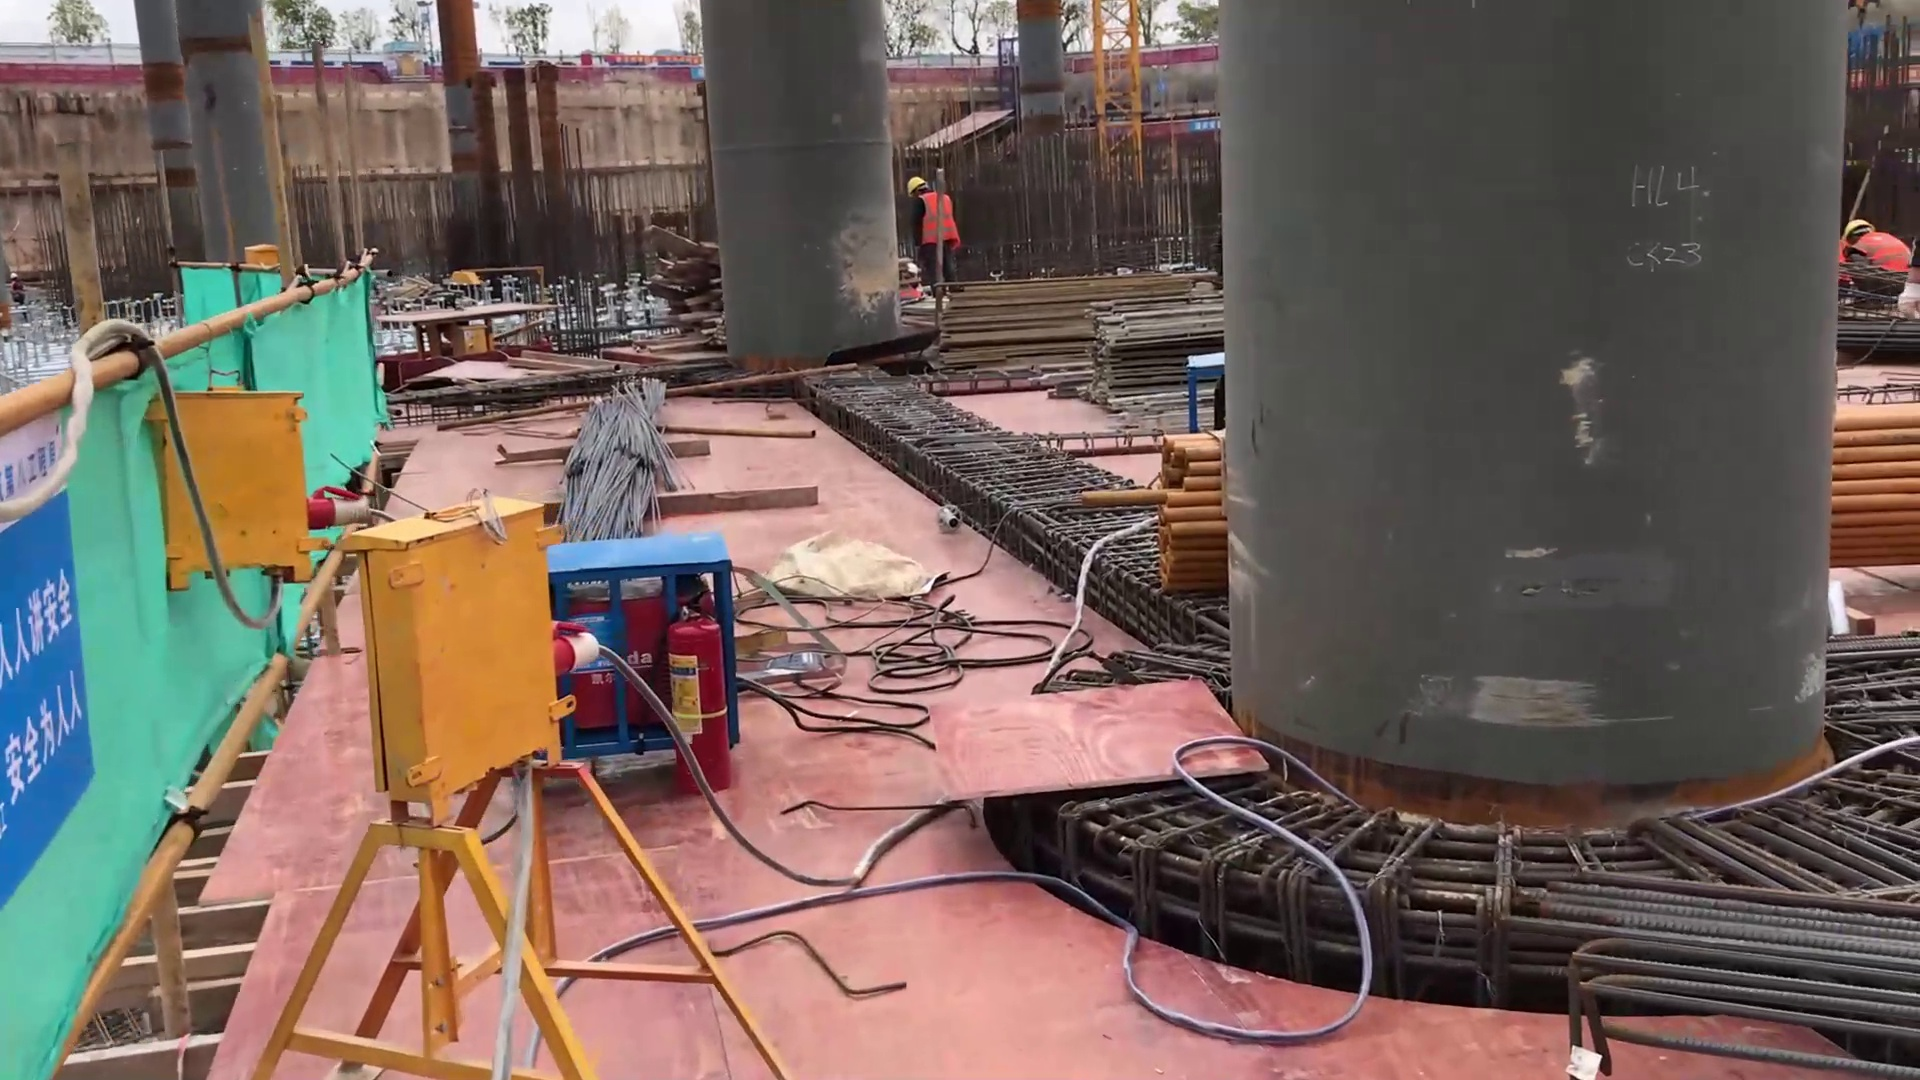board: (911, 279, 1194, 362)
cutter: (423, 246, 524, 366)
ebox: (358, 521, 539, 834), (168, 389, 326, 587), (466, 321, 499, 384)
helmet: (1836, 208, 1881, 237), (900, 174, 930, 193), (905, 264, 922, 279)
person: (909, 165, 974, 290), (1839, 211, 1911, 305)
rebar: (1509, 848, 1920, 1036), (568, 381, 673, 541), (1843, 308, 1920, 353)
slogan: (1, 636, 89, 836)
vest: (1841, 234, 1905, 286), (918, 185, 955, 246), (903, 282, 926, 299)
